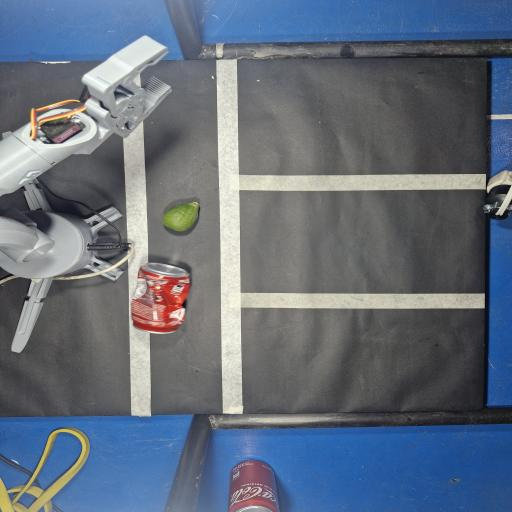higo: (162, 202, 199, 231)
lata_defectuoso: (132, 263, 190, 333)
